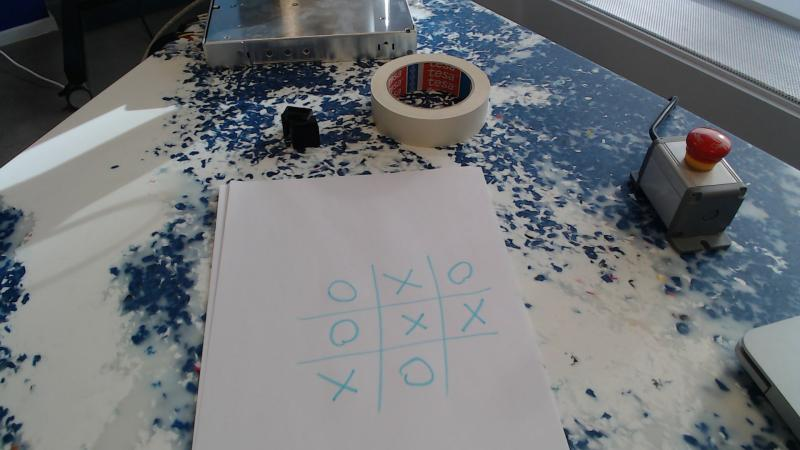O: (392, 351, 443, 394), (314, 274, 364, 306), (320, 319, 366, 348), (445, 258, 476, 288)
X: (318, 371, 364, 405), (380, 266, 426, 296), (457, 301, 494, 332), (395, 307, 432, 336)
grid: (294, 246, 503, 420)
